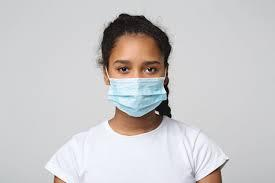mask: (106, 75, 172, 120)
